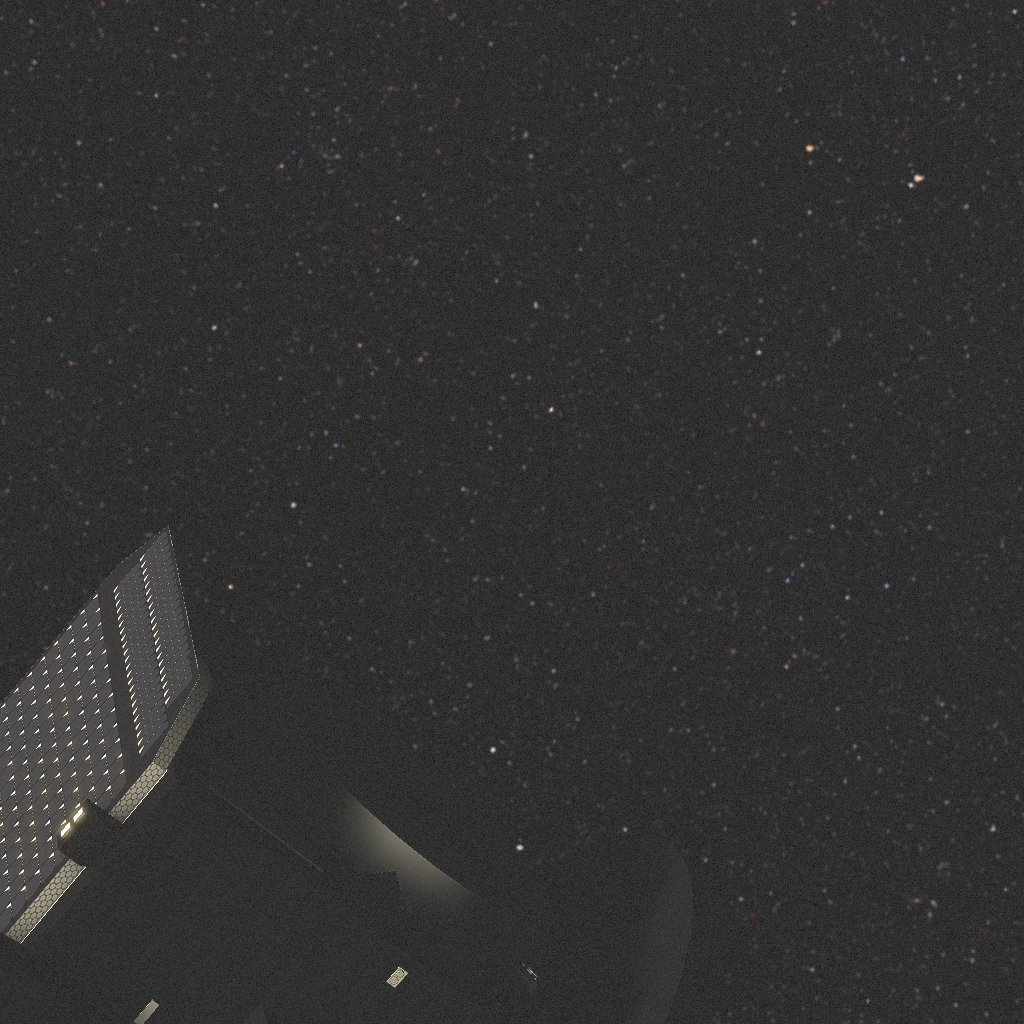proba_3_ocs: (0, 526, 722, 1024)
